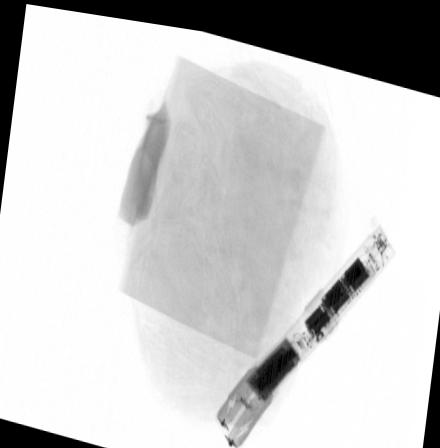Baton: (209, 210, 398, 443)
